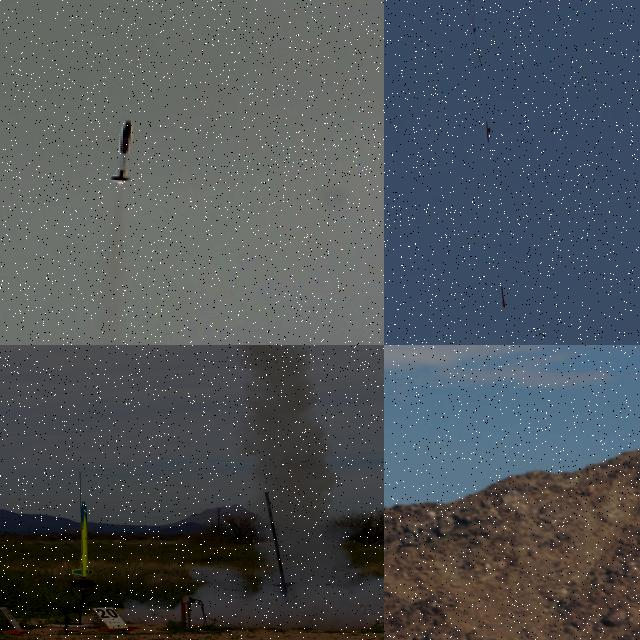Rocket: (72, 500, 95, 578), (110, 119, 134, 182), (501, 286, 507, 309)
